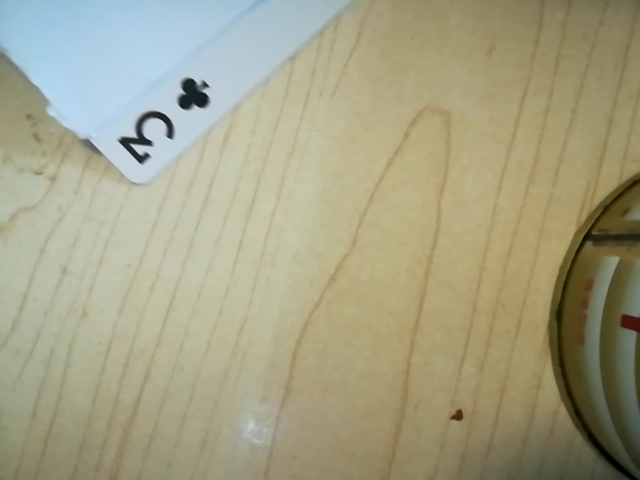mh 3: (108, 71, 221, 172)
